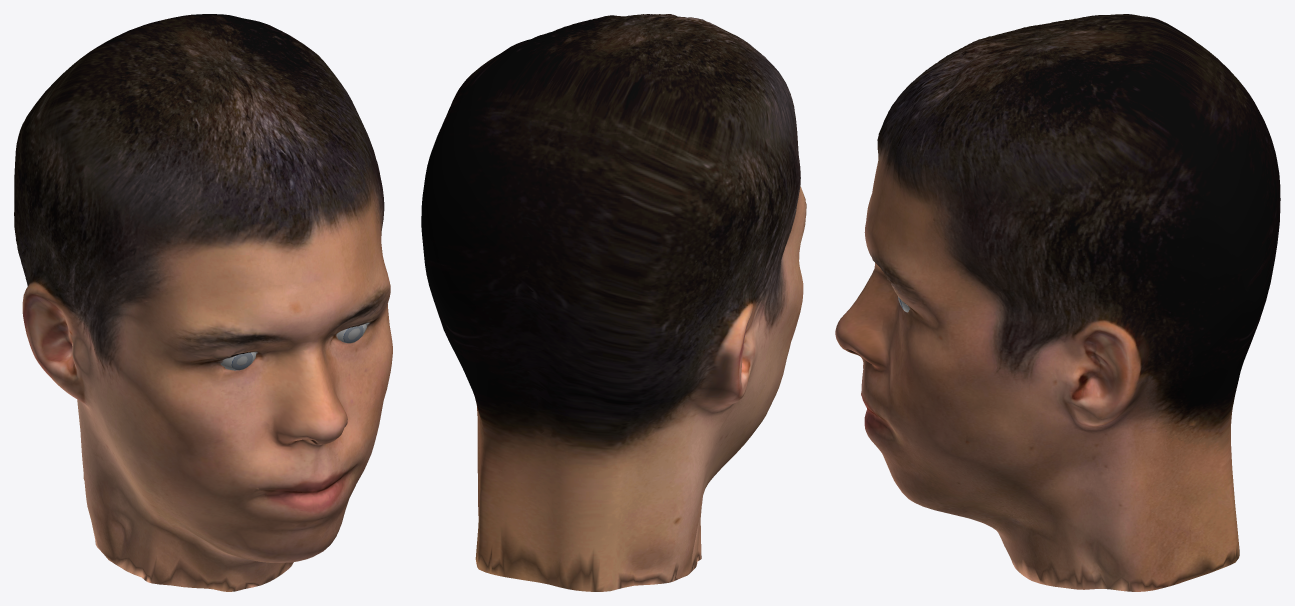
File: head3d.obj
3 views of the same model, side by side, from view 1: azimuth 30°, elevation 25°; view 2: azimuth 150°, elevation 25°; view 3: azimuth 270°, elevation 25° (orthographic).
Parts seen in each view (by area): view 1: head; view 2: head; view 3: head.
Part boxes in pixels (<box>): head: <box>14,14,392,591</box>; head: <box>421,14,806,591</box>; head: <box>835,14,1280,591</box>.
Bounding box in the file's own units: 174 × 273 × 213.
5 materials, 1 textured.
